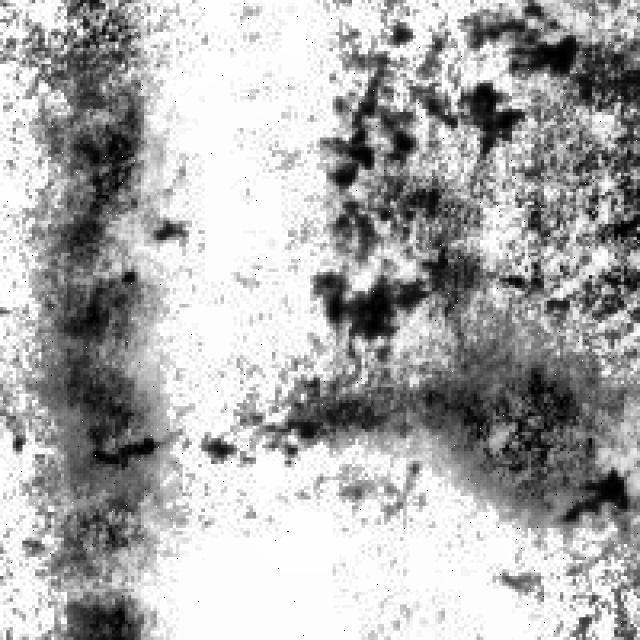Scratches: (41, 249, 172, 532), (407, 339, 596, 509)
